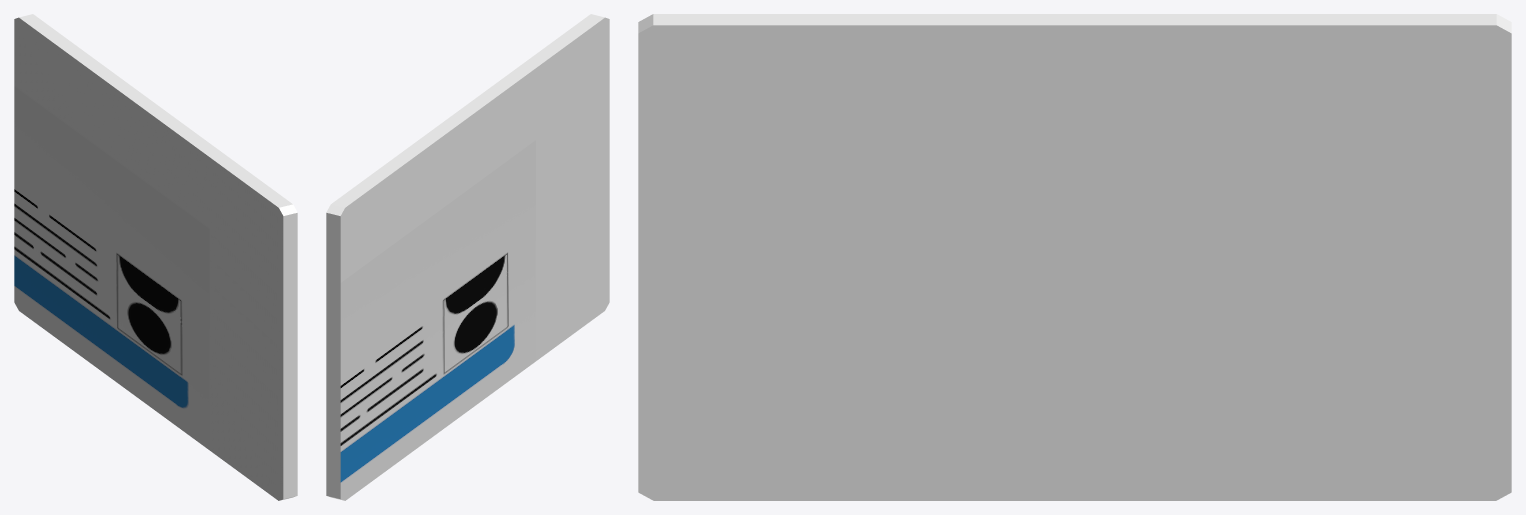
The model's file is card_textured.fbx.
3 renders of one model, left to right at view 1: azimuth 30°, elevation 25°; view 2: azimuth 150°, elevation 25°; view 3: azimuth 270°, elevation 25°, orthographic. The views are drawn at different scales.
Visible parts, largest first — view 1: Cube; view 2: Cube; view 3: Cube.
Boxes of the visible parts, bbox=[...] form: Cube: bbox=[14, 14, 297, 500]; Cube: bbox=[326, 14, 609, 500]; Cube: bbox=[638, 14, 1511, 500].
Size of the model in its own units: 2.92 by 57.03 by 94.9.
